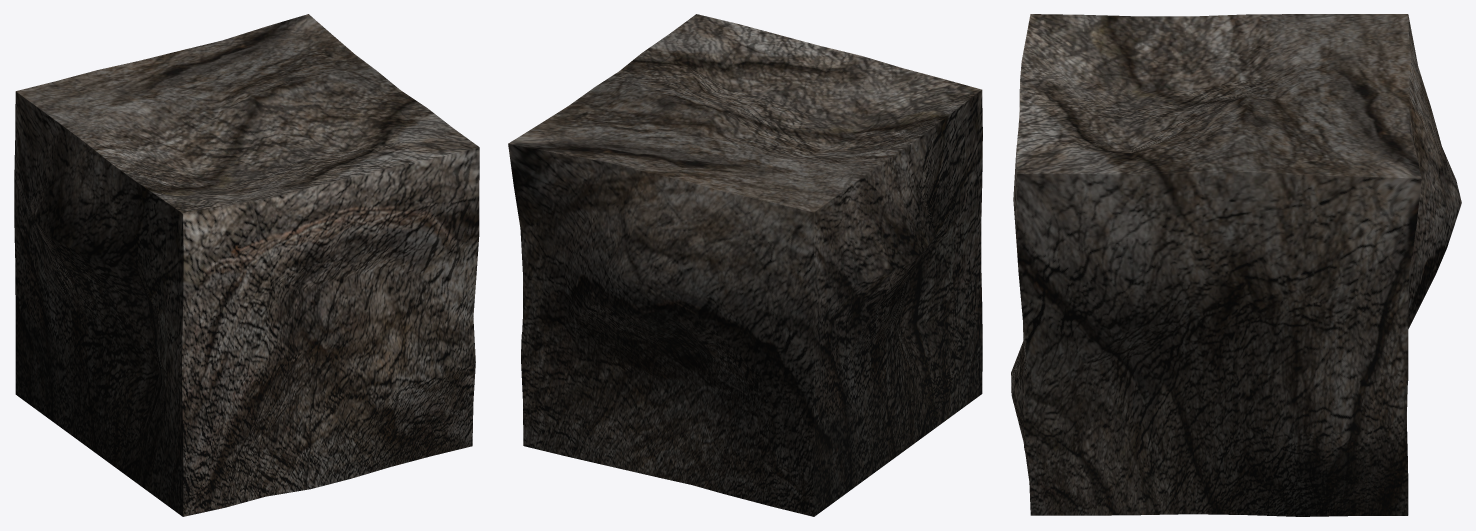
The model's file is stone_block.fbx.
3 renders of one model, left to right at view 1: azimuth 30°, elevation 25°; view 2: azimuth 150°, elevation 25°; view 3: azimuth 270°, elevation 25°, orthographic. The views are drawn at different scales.
Visible parts, largest first — view 1: Stone_Cube; view 2: Stone_Cube; view 3: Stone_Cube.
Part boxes in pixels (left/top/right/bottom): Stone_Cube: left=14, top=14, right=479, bottom=516; Stone_Cube: left=508, top=14, right=982, bottom=516; Stone_Cube: left=1011, top=14, right=1461, bottom=516.
Bounding box in the file's own units: 12.12 × 10.36 × 11.94.
